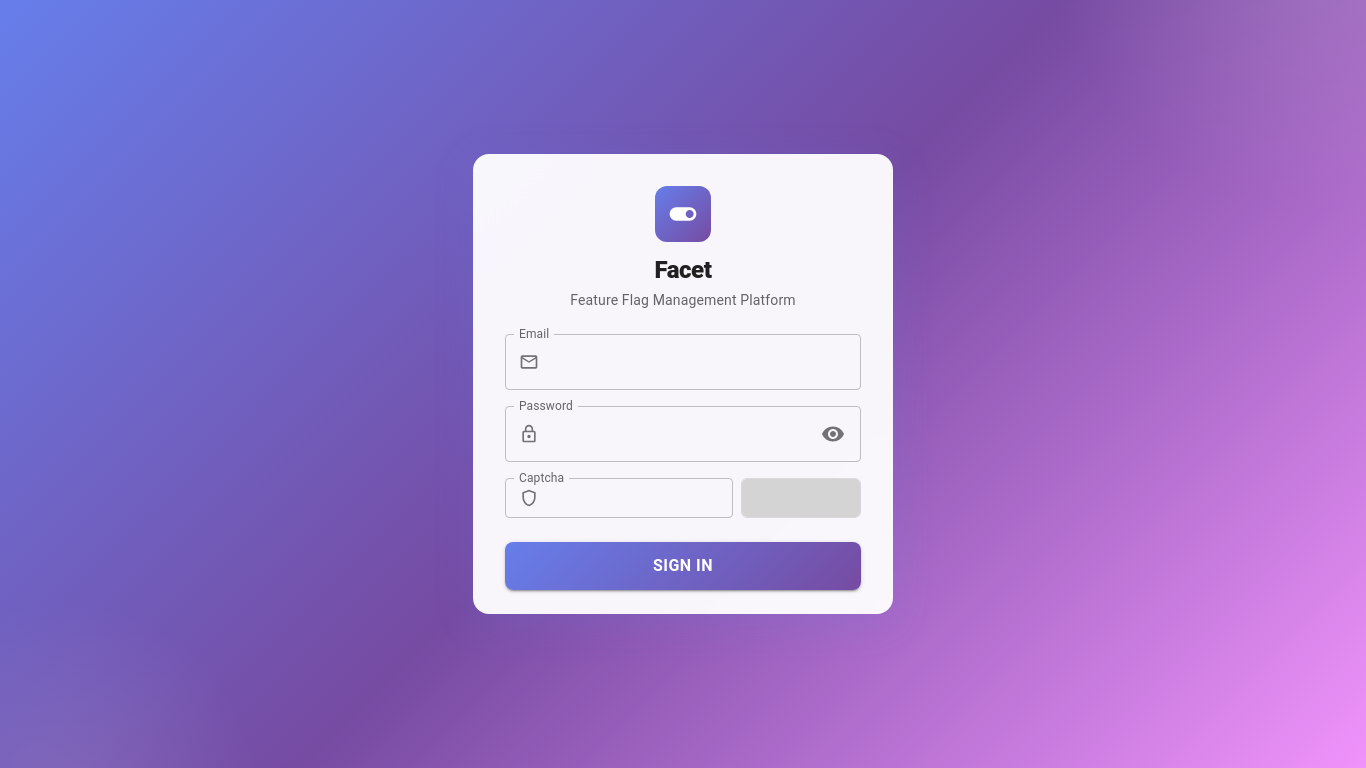
Test case: Login › shows loading spinner on sign in button while loading
Type "a@b.com" into the field labelled "Email" at (704, 362), box top-left (547, 334), bottom-right (861, 390)
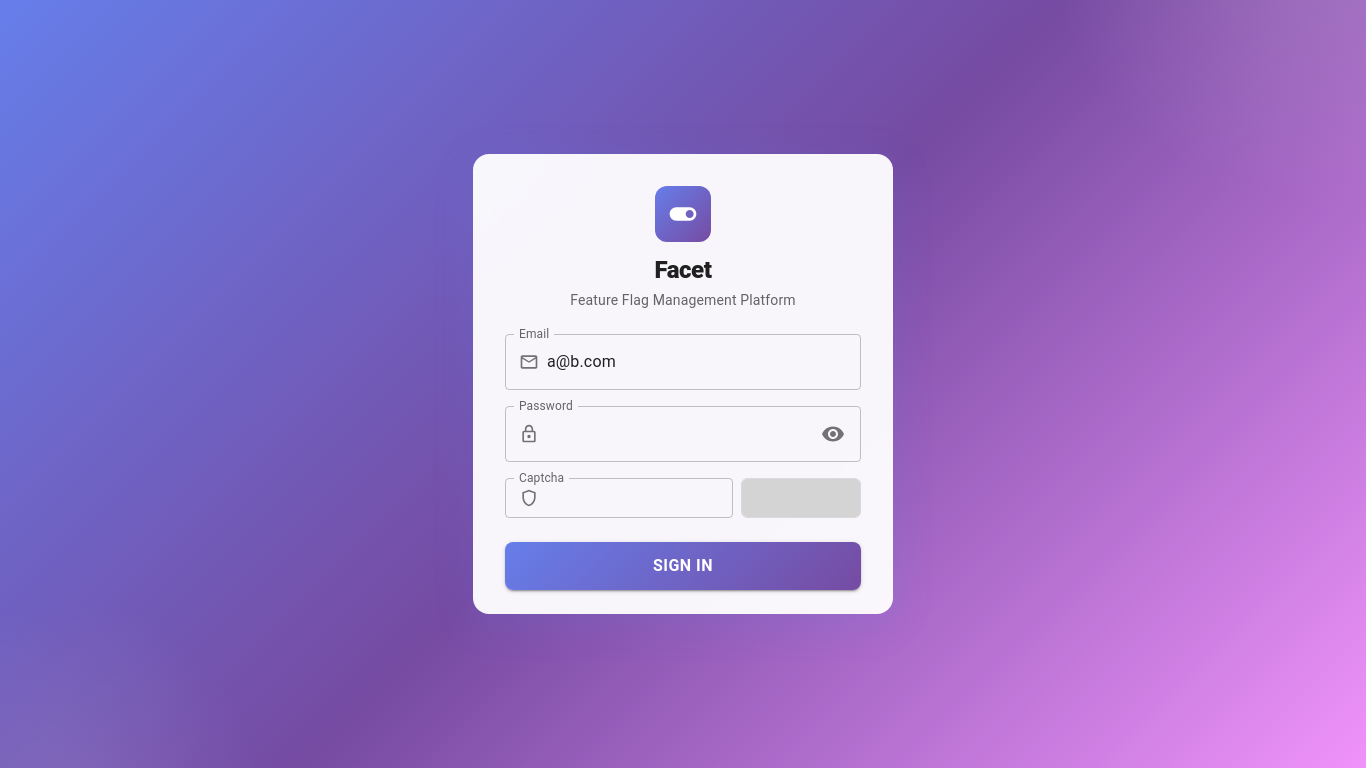
Type "pwd" into the password field labelled "Password" at (678, 434), box top-left (547, 406), bottom-right (808, 462)
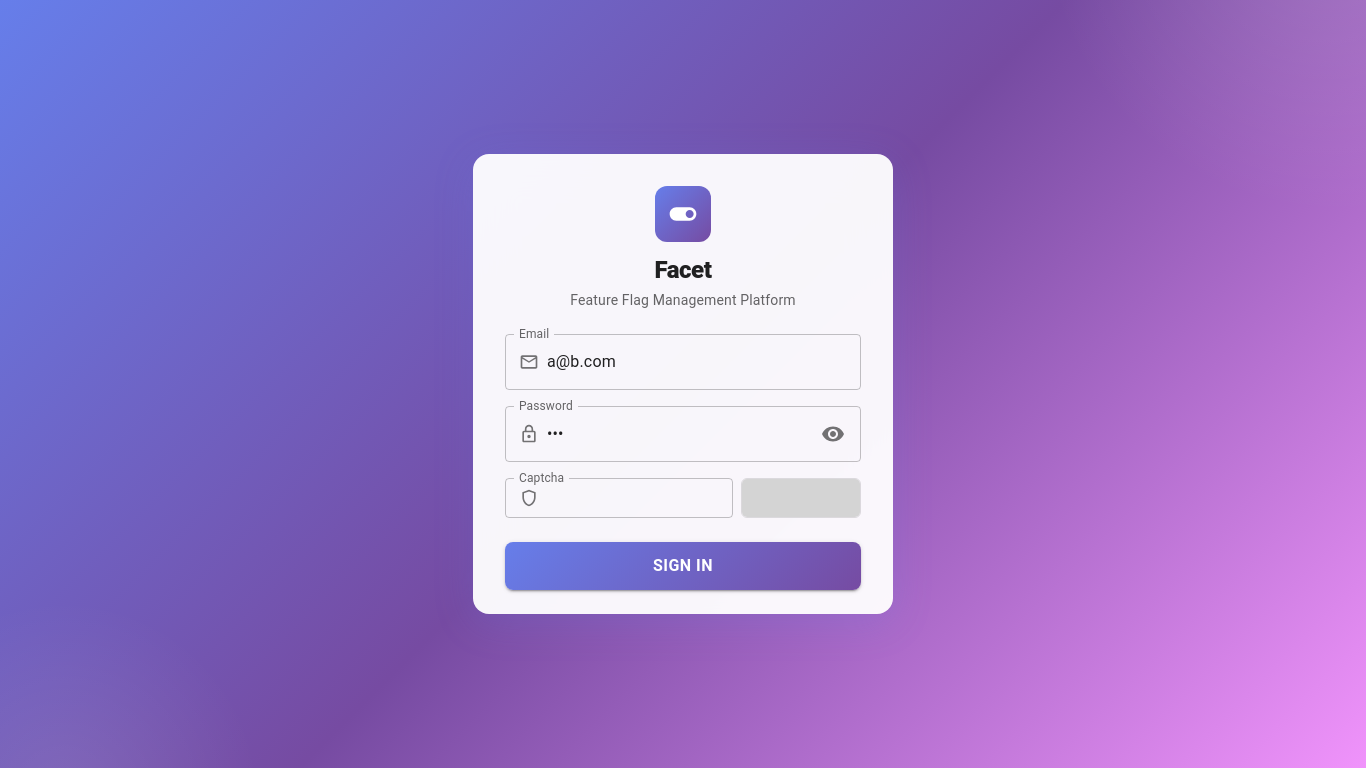
Type "1234" into the field labelled "Captcha" at (640, 498), box top-left (547, 478), bottom-right (733, 518)
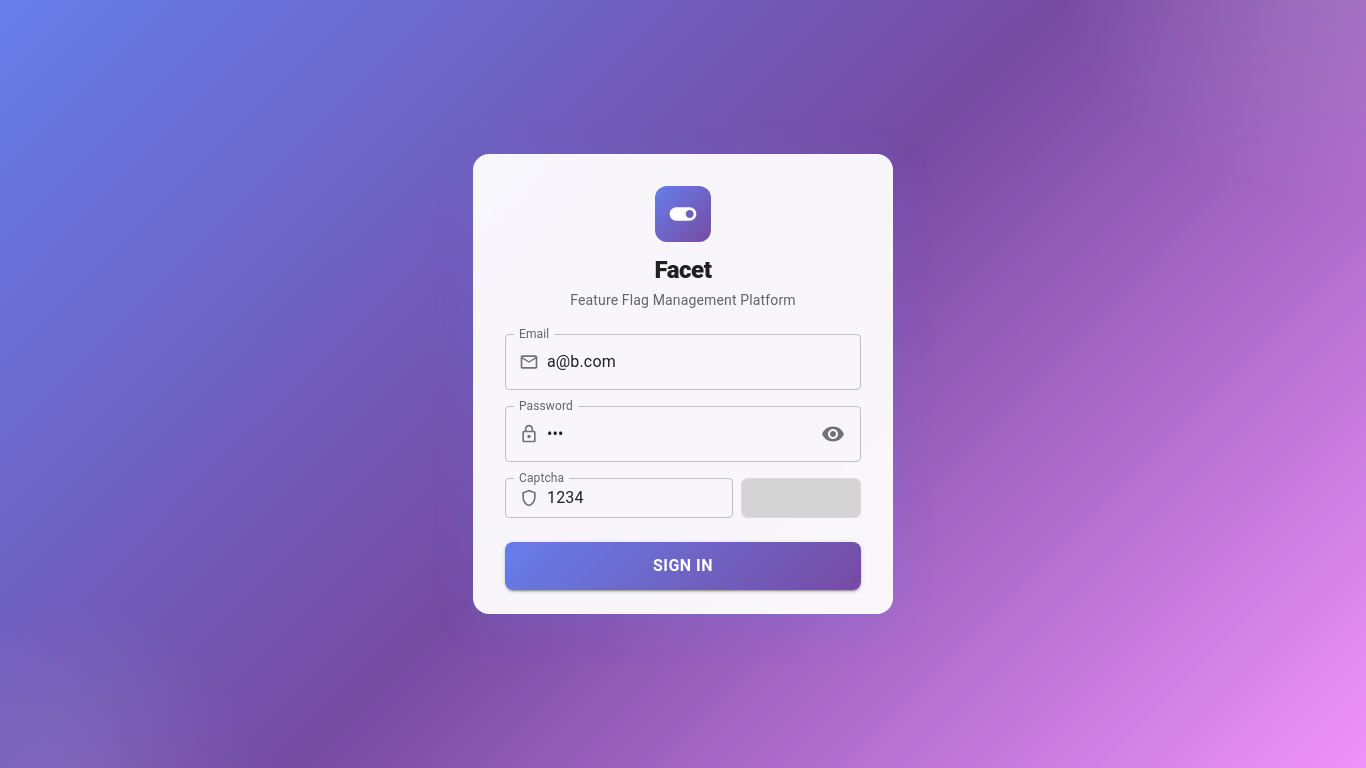
Click the button "Sign In" at (683, 566), box top-left (505, 542), bottom-right (861, 590)
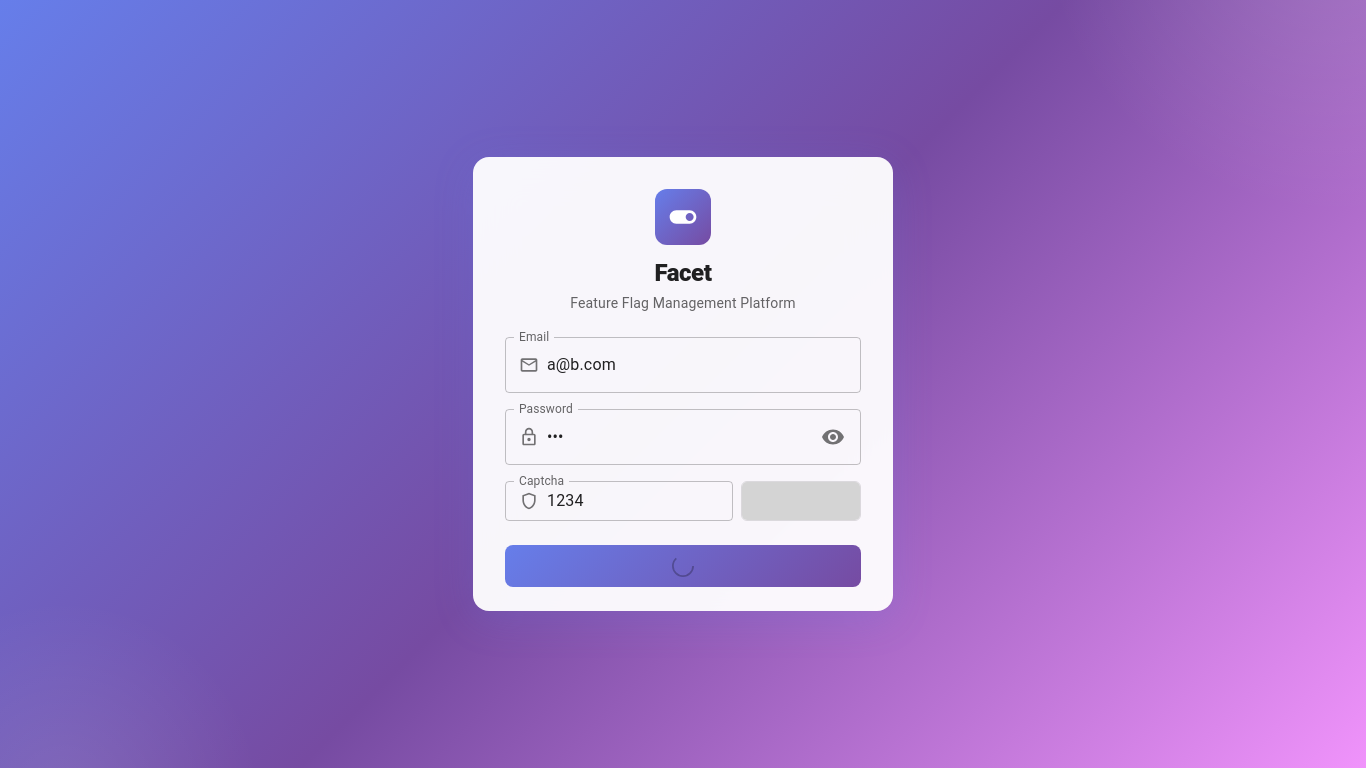
Expected: the progress indicator is shown, top-left (672, 555), bottom-right (694, 577)
